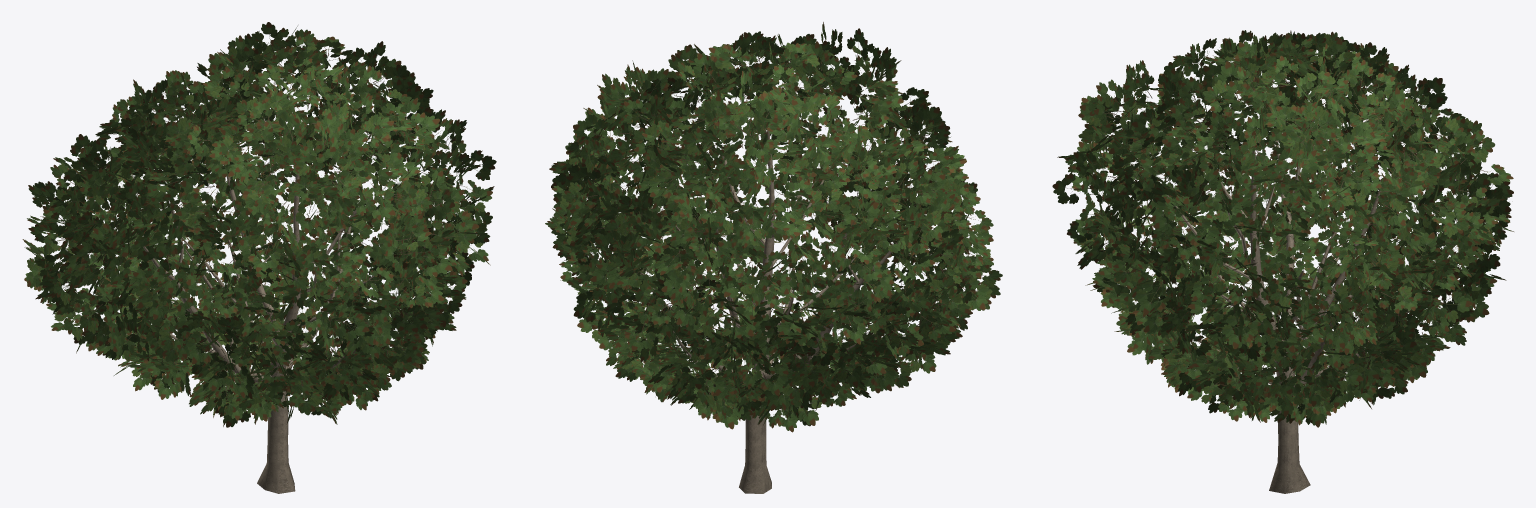
Rendered from marronnier_mobile.glb.
3 renders of one model, left to right at view 1: azimuth 30°, elevation 25°; view 2: azimuth 150°, elevation 25°; view 3: azimuth 270°, elevation 25°, orthographic.
Visible parts, largest first — view 1: marronnier_feuilles, marronnier_ecorce; view 2: marronnier_feuilles, marronnier_ecorce; view 3: marronnier_feuilles, marronnier_ecorce.
Part boxes in pixels (bbox=[...]): marronnier_feuilles: bbox=[22, 22, 496, 427]; marronnier_ecorce: bbox=[128, 173, 374, 493]; marronnier_feuilles: bbox=[545, 22, 1002, 432]; marronnier_ecorce: bbox=[640, 130, 897, 493]; marronnier_feuilles: bbox=[1052, 30, 1513, 427]; marronnier_ecorce: bbox=[1164, 140, 1410, 493].
Bounding box in the file's own units: 20.44 × 19.64 × 18.88.
2 materials, 2 textured.
